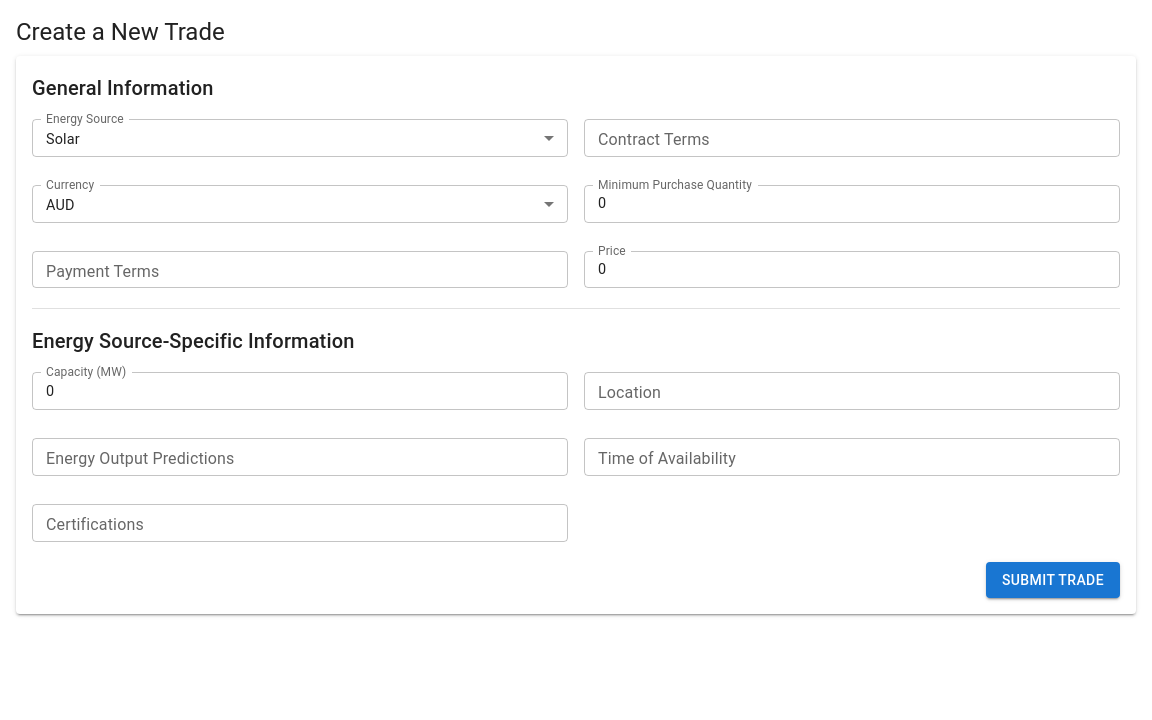
Test: TradeForm › updates dynamic fields when the energy source is changed
The width and height of the screenshot is (1152, 720).
expect the field labelled "Contract Terms" is shown: met, box [584,119,1120,157]
expect the dropdown labelled "Currency" is shown: met, box [32,185,568,223]
Change the energy source to "wind"
Select "Wind" in the dropdown labelled "Energy Source" at (300, 138), box [32,119,568,157]
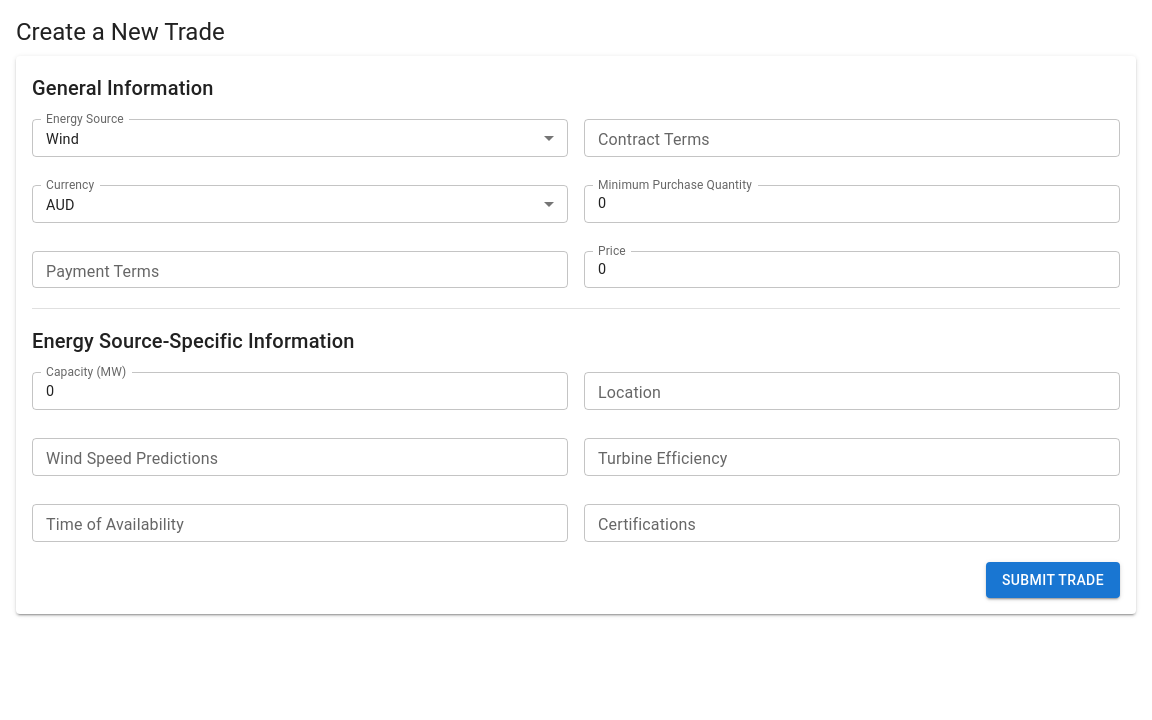
expect the number field labelled "Capacity (MW)" is shown: met, box [32,372,568,410]
expect the field labelled "Wind Speed Predictions" is shown: met, box [32,438,568,476]
expect the field labelled "Turbine Efficiency" is shown: met, box [584,438,1120,476]
